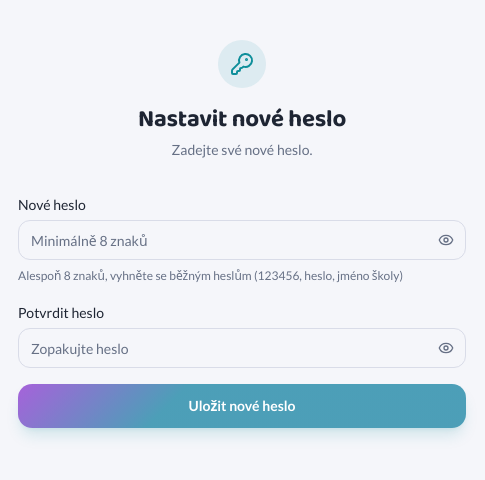
Test: ResetHeslo › weak_password nechá formulář, vyplněné heslo i stejný token
The width and height of the screenshot is (485, 480).
In the password field labelled "Nové heslo": [242, 240] box 18,220 -> 466,260, type "Tri-Slova-Za-Sebou"
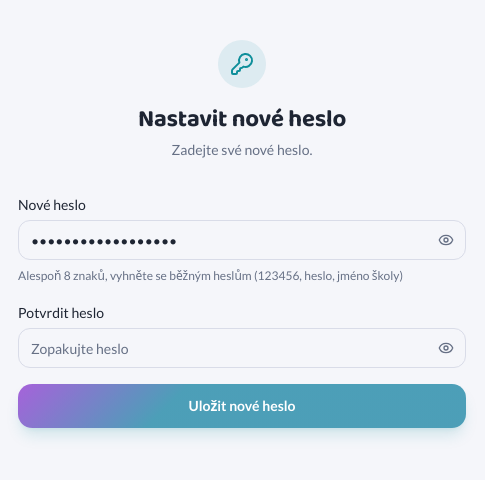
In the password field labelled "Potvrdit heslo": [242, 348] box 18,328 -> 466,368, type "Tri-Slova-Za-Sebou"
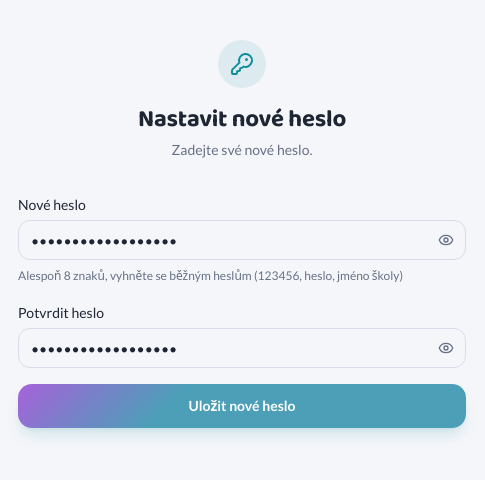
Click the button "Uložit nové heslo": [242, 406] box 18,384 -> 466,428
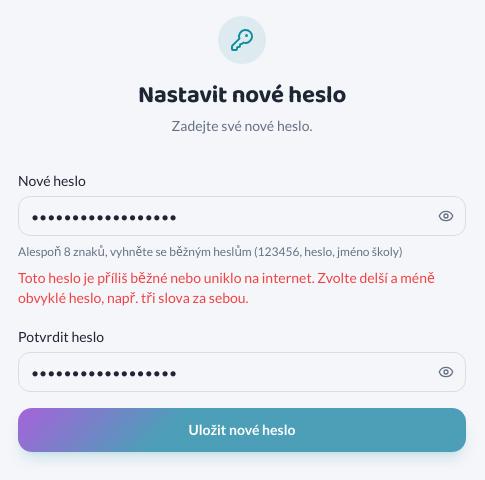
Expected: the heading "Nastavit nové heslo" is shown, 138,76 -> 346,115
Expected: the message shows "Toto heslo je příliš běžné nebo uniklo na internet. Zvolte delší a méně obvyklé heslo, např. tři slova za sebou.", 18,269 -> 435,306
